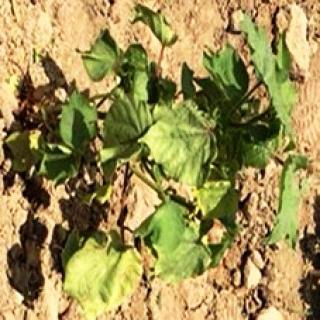wilt: (76, 232, 144, 296), (11, 123, 61, 179), (193, 181, 243, 225)
